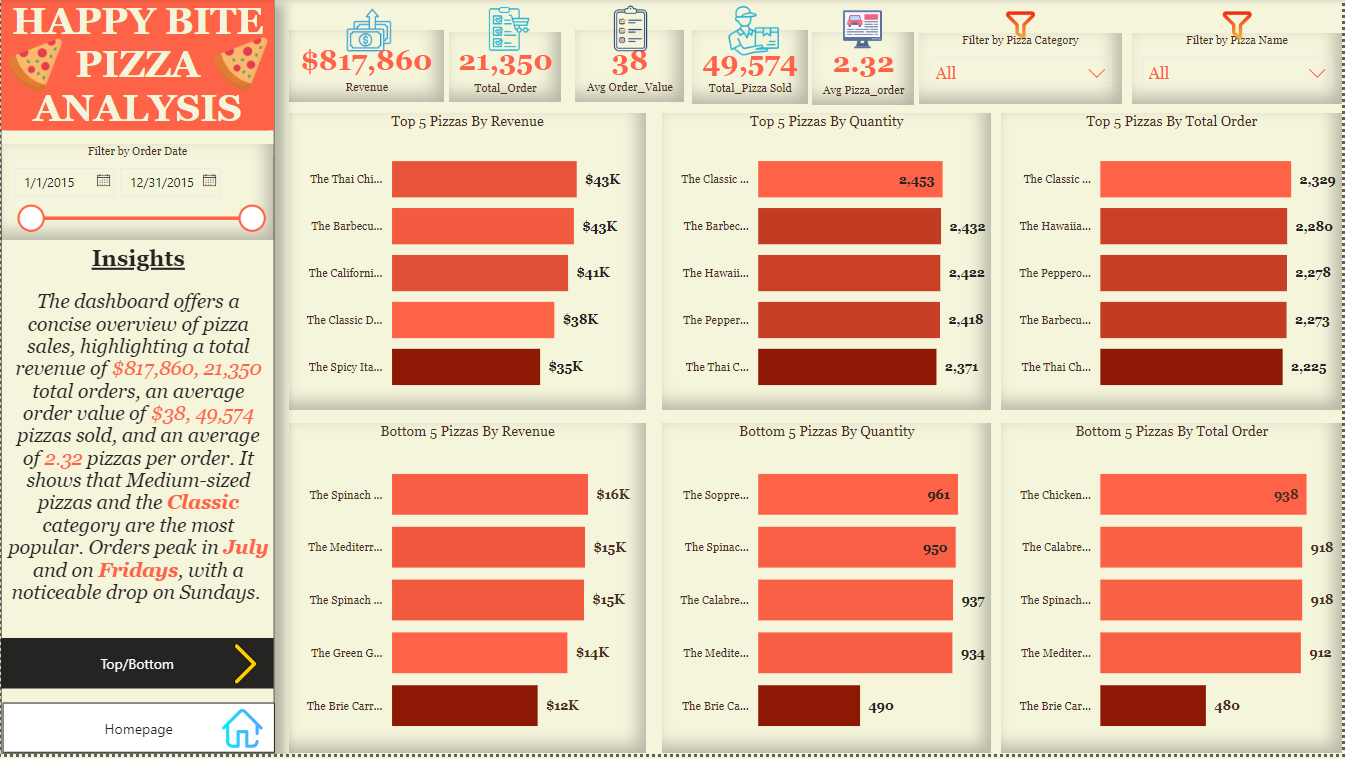

Layout of this report page (visuals, bound fields, positions):
{"tool":"powerbi","page":{"name":"Top/Bottom","canvas":[1280,720],"ordinal":1},"visuals":[{"type":"image","box":[303.6,0,95.4,58.8],"z":0,"group":"g4"},{"type":"group","id":"g1","title":"Group 1","box":[659.6,29.4,109.7,69.9],"z":0,"group":"g7"},{"type":"group","id":"g2","title":"Group 1","box":[774,31.8,97,69.9],"z":0},{"type":"shape","box":[0,0,260.7,720],"z":1000},{"type":"image","box":[679.1,0,76.3,60.4],"z":1000,"group":"g7"},{"type":"card","fields":{"Values":["_Measures.Total_Pizza Sold"]},"box":[659.6,29.4,109.7,69.9],"z":1000,"group":"g1"},{"type":"card","fields":{"Values":["_Measures.Revenue"]},"box":[275,30.2,147.8,68.3],"z":1000,"group":"g4"},{"type":"card","fields":{"Values":["_Measures.Avg Order_Value"]},"box":[548.2,30.7,103.3,68.3],"z":1000,"group":"g3"},{"type":"card","fields":{"Values":["_Measures.Total_Order"]},"box":[427.5,31.8,106.5,66.8],"z":1000,"group":"g5"},{"type":"card","fields":{"Values":["_Measures.Avg Pizza_order"]},"box":[774,31.8,97,69.9],"z":1000,"group":"g2"},{"type":"clusteredBarChart","title":"Top 5 Pizzas By Revenue","fields":{"Category":["pizza_sales.pizza_name"],"Y":["_Measures.Revenue"]},"box":[274.8,108.8,340.7,283.4],"z":2000},{"type":"group","id":"g3","title":"Group 1","box":[548.2,30.7,103.3,68.3],"z":2006,"group":"g6"},{"type":"image","box":[429.2,1.6,111.8,53.6],"z":2016,"group":"g5"},{"type":"image","box":[546.8,0,108.1,55.6],"z":2019,"group":"g6"},{"type":"card","title":"HAPPY BITE PIZZA ANALYSIS","fields":{"Values":["_Measures.Total_Pizza Sold"]},"box":[0,0,260.7,125.6],"z":3000},{"type":"group","id":"g4","title":"Group 1","box":[275,0,147.8,98.5],"z":4000},{"type":"image","box":[928.2,0,90.6,49.3],"z":5000},{"type":"image","box":[788.3,4.8,66.8,49.3],"z":6000},{"type":"image","box":[195.5,30.2,65.2,63.6],"z":7000},{"type":"group","id":"g5","title":"Group 2","box":[427.5,1.6,114.4,97],"z":8000},{"type":"group","id":"g6","title":"Group 3","box":[546.8,0,108.1,99.1],"z":9000},{"type":"group","id":"g7","title":"Group 4","box":[659.6,0,109.7,100.1],"z":10000},{"type":"shape","box":[0,126,260.5,24.3],"z":11000},{"type":"image","box":[0,31.8,65.2,63.6],"z":12000},{"type":"slicer","title":"Filter by Pizza Category","fields":{"Values":["pizza_sales.pizza_category"]},"box":[876,32.9,193.2,67.3],"z":13000},{"type":"slicer","title":"Filter by Order Date","fields":{"Values":["pizza_sales.order_date"]},"box":[0,138.8,260.5,91.6],"z":14000},{"type":"textbox","box":[0,230.5,261.9,376.5],"z":15000},{"type":"pageNavigator","box":[0,609.8,260.5,48.7],"z":16000},{"type":"pageNavigator","box":[1.4,671.3,260.5,48.7],"z":17000},{"type":"image","box":[204.7,609.8,57.3,48.7],"z":18000},{"type":"image","box":[199,671.3,63,48.7],"z":19000},{"type":"clusteredBarChart","title":"Top 5 Pizzas By Quantity","fields":{"Category":["pizza_sales.pizza_name"],"Y":["_Measures.Total_Pizza Sold"]},"box":[631.3,108.8,313.5,283.4],"z":20000},{"type":"clusteredBarChart","title":"Top 5 Pizzas By Total Order","fields":{"Category":["pizza_sales.pizza_name"],"Y":["_Measures.Total_Order"]},"box":[954.8,108.8,324.9,283.4],"z":21000},{"type":"clusteredBarChart","title":"Bottom 5 Pizzas By Revenue","fields":{"Category":["pizza_sales.pizza_name"],"Y":["_Measures.Revenue"]},"box":[274.8,405.1,340.7,314.9],"z":22000},{"type":"clusteredBarChart","title":"Bottom 5 Pizzas By Quantity","fields":{"Category":["pizza_sales.pizza_name"],"Y":["_Measures.Total_Pizza Sold"]},"box":[631.3,405.1,313.5,314.9],"z":23000},{"type":"clusteredBarChart","title":"Bottom 5 Pizzas By Total Order","fields":{"Category":["pizza_sales.pizza_name"],"Y":["_Measures.Total_Order"]},"box":[954.8,405.1,324.9,314.9],"z":24000},{"type":"slicer","title":"Filter by Pizza Name","fields":{"Values":["pizza_sales.pizza_name"]},"box":[1079.3,32.9,200.4,67.3],"z":25000},{"type":"image","box":[1133.7,0,91.6,48.7],"z":25001}]}

Visuals, with their boxes in screenshot pixels (x1, y1, x2, y2), scaled from the page's 1280x720 canvas onto the 1345x759 screenshot:
image: [319,0,419,62]
"Group 1" group: [693,31,808,105]
"Group 1" group: [813,34,915,107]
shape: [0,0,274,758]
image: [714,0,794,64]
card - _Measures.Total_Pizza Sold: [693,31,808,105]
card - _Measures.Revenue: [289,32,444,104]
card - _Measures.Avg Order_Value: [576,32,685,104]
card - _Measures.Total_Order: [449,34,561,104]
card - _Measures.Avg Pizza_order: [813,34,915,107]
"Top 5 Pizzas By Revenue" clusteredBarChart: [289,115,647,413]
"Group 1" group: [576,32,685,104]
image: [451,2,568,58]
image: [575,0,688,59]
"HAPPY BITE PIZZA ANALYSIS" card: [0,0,274,132]
"Group 1" group: [289,0,444,104]
image: [975,0,1071,52]
image: [828,5,899,57]
image: [205,32,274,99]
"Group 2" group: [449,2,569,104]
"Group 3" group: [575,0,688,104]
"Group 4" group: [693,0,808,106]
shape: [0,133,274,158]
image: [0,34,69,101]
"Filter by Pizza Category" slicer: [920,35,1123,106]
"Filter by Order Date" slicer: [0,146,274,243]
textbox: [0,243,275,640]
pageNavigator: [0,643,274,694]
pageNavigator: [1,708,275,758]
image: [215,643,275,694]
image: [209,708,275,758]
"Top 5 Pizzas By Quantity" clusteredBarChart: [663,115,993,413]
"Top 5 Pizzas By Total Order" clusteredBarChart: [1003,115,1344,413]
"Bottom 5 Pizzas By Revenue" clusteredBarChart: [289,427,647,758]
"Bottom 5 Pizzas By Quantity" clusteredBarChart: [663,427,993,758]
"Bottom 5 Pizzas By Total Order" clusteredBarChart: [1003,427,1344,758]
"Filter by Pizza Name" slicer: [1134,35,1344,106]
image: [1191,0,1288,51]
